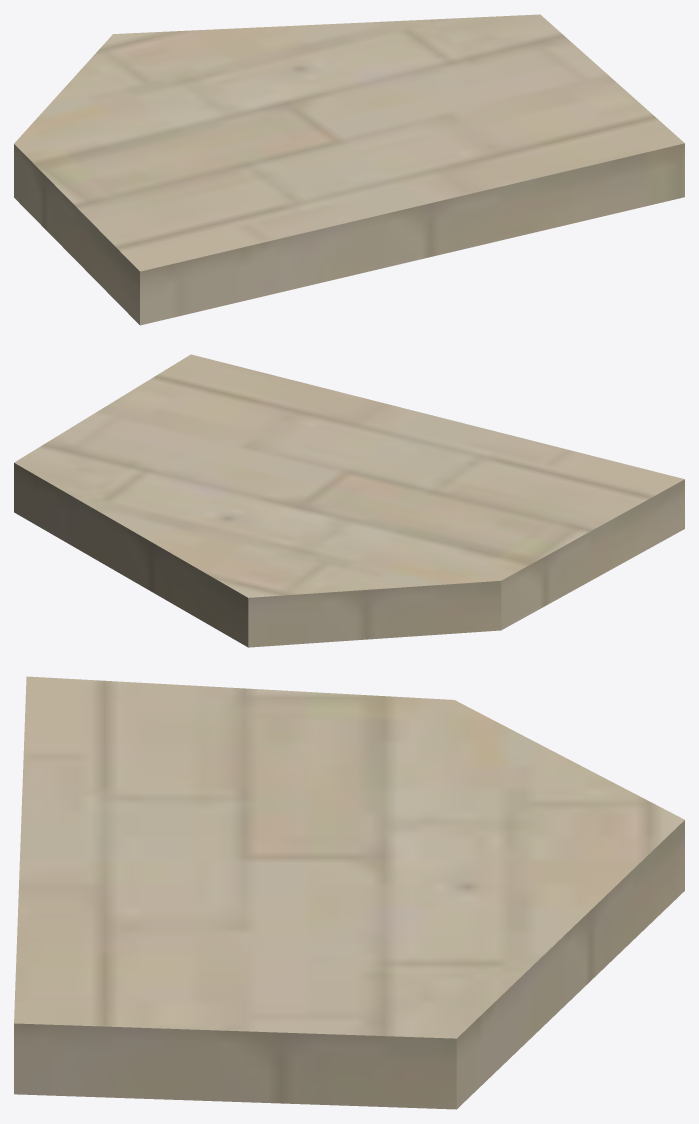
The model's file is debris_dc_slab.glb.
The picture shows the model from 3 angles, top to bottom: view 1: azimuth 30°, elevation 25°; view 2: azimuth 150°, elevation 25°; view 3: azimuth 270°, elevation 25°; orthographic projection. The views are drawn at different scales.
Parts seen in each view (by area): view 1: debris_dc_slab; view 2: debris_dc_slab; view 3: debris_dc_slab.
Boxes of the visible parts, <box> form: debris_dc_slab: <box>14,14,684,325</box>; debris_dc_slab: <box>14,354,684,647</box>; debris_dc_slab: <box>14,676,684,1109</box>.
Bounding box in the file's own units: 3.83 × 0.35 × 3.
1 material, 1 textured.
